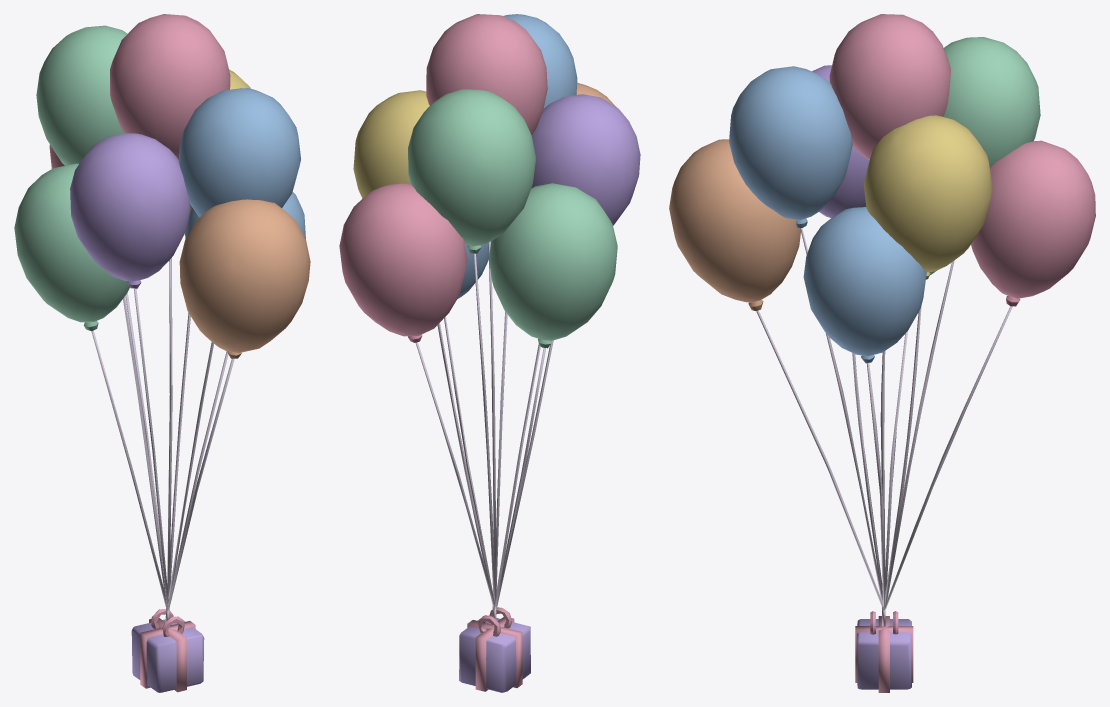
Rendered from W4_BalloonBunch_lod1.fbx.
3 views of the same model, side by side, from view 1: azimuth 30°, elevation 25°; view 2: azimuth 150°, elevation 25°; view 3: azimuth 270°, elevation 25° (orthographic).
Parts seen in each view (by area): view 1: W4_BalloonBunch.001; view 2: W4_BalloonBunch.001; view 3: W4_BalloonBunch.001.
Part boxes in pixels (x1,y1,x2,y2): W4_BalloonBunch.001: (14,14,310,692); W4_BalloonBunch.001: (339,14,640,692); W4_BalloonBunch.001: (669,14,1095,692).
Bounding box in the file's own units: 0.4132 × 1.04 × 0.6046.
